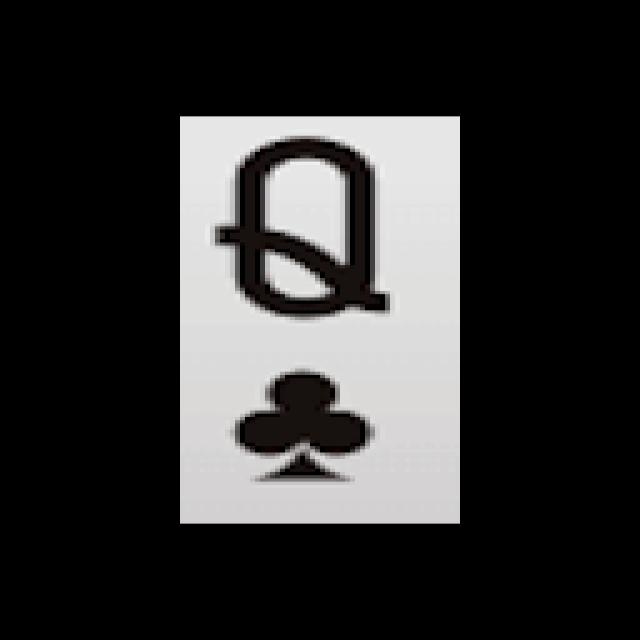QC: (196, 127, 406, 493)
